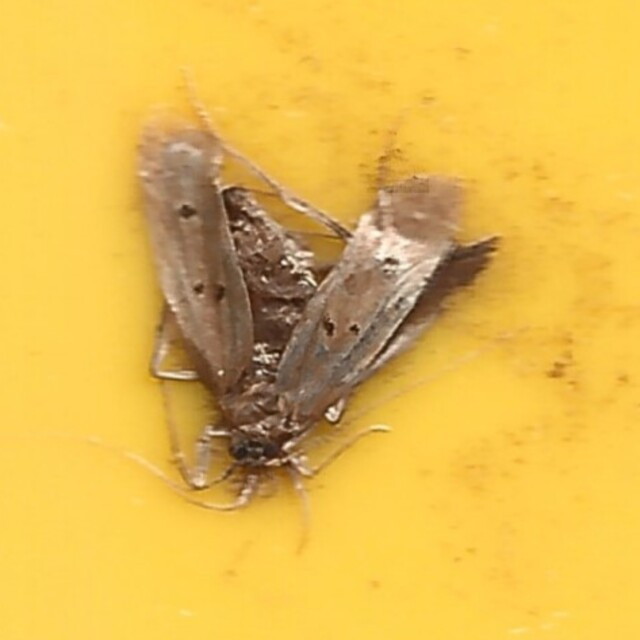Lepidoptera: (135, 123, 505, 517)
